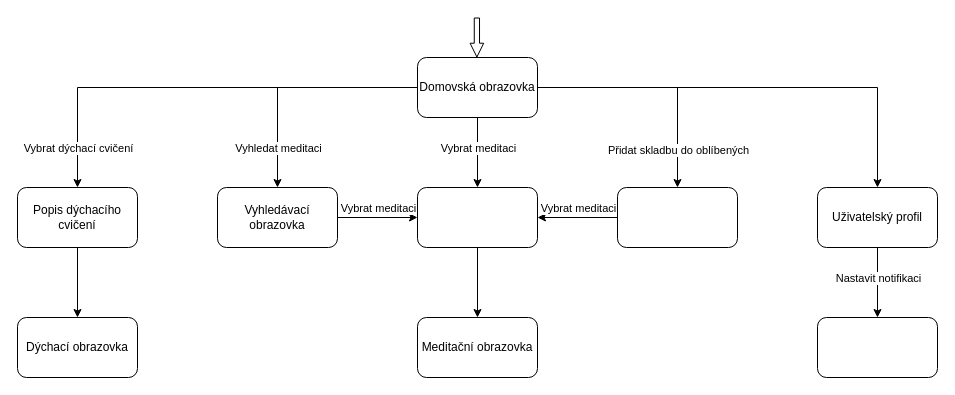
Image size: 955x395. Some labels were removed from this diagram. Here are the shapes that lost their labels. From the top down, the box of each, then its label:
(416, 186, 538, 248): Popis meditace
(616, 186, 738, 248): Oblíbené skladby
(816, 316, 938, 378): Notifikační obrazovka
